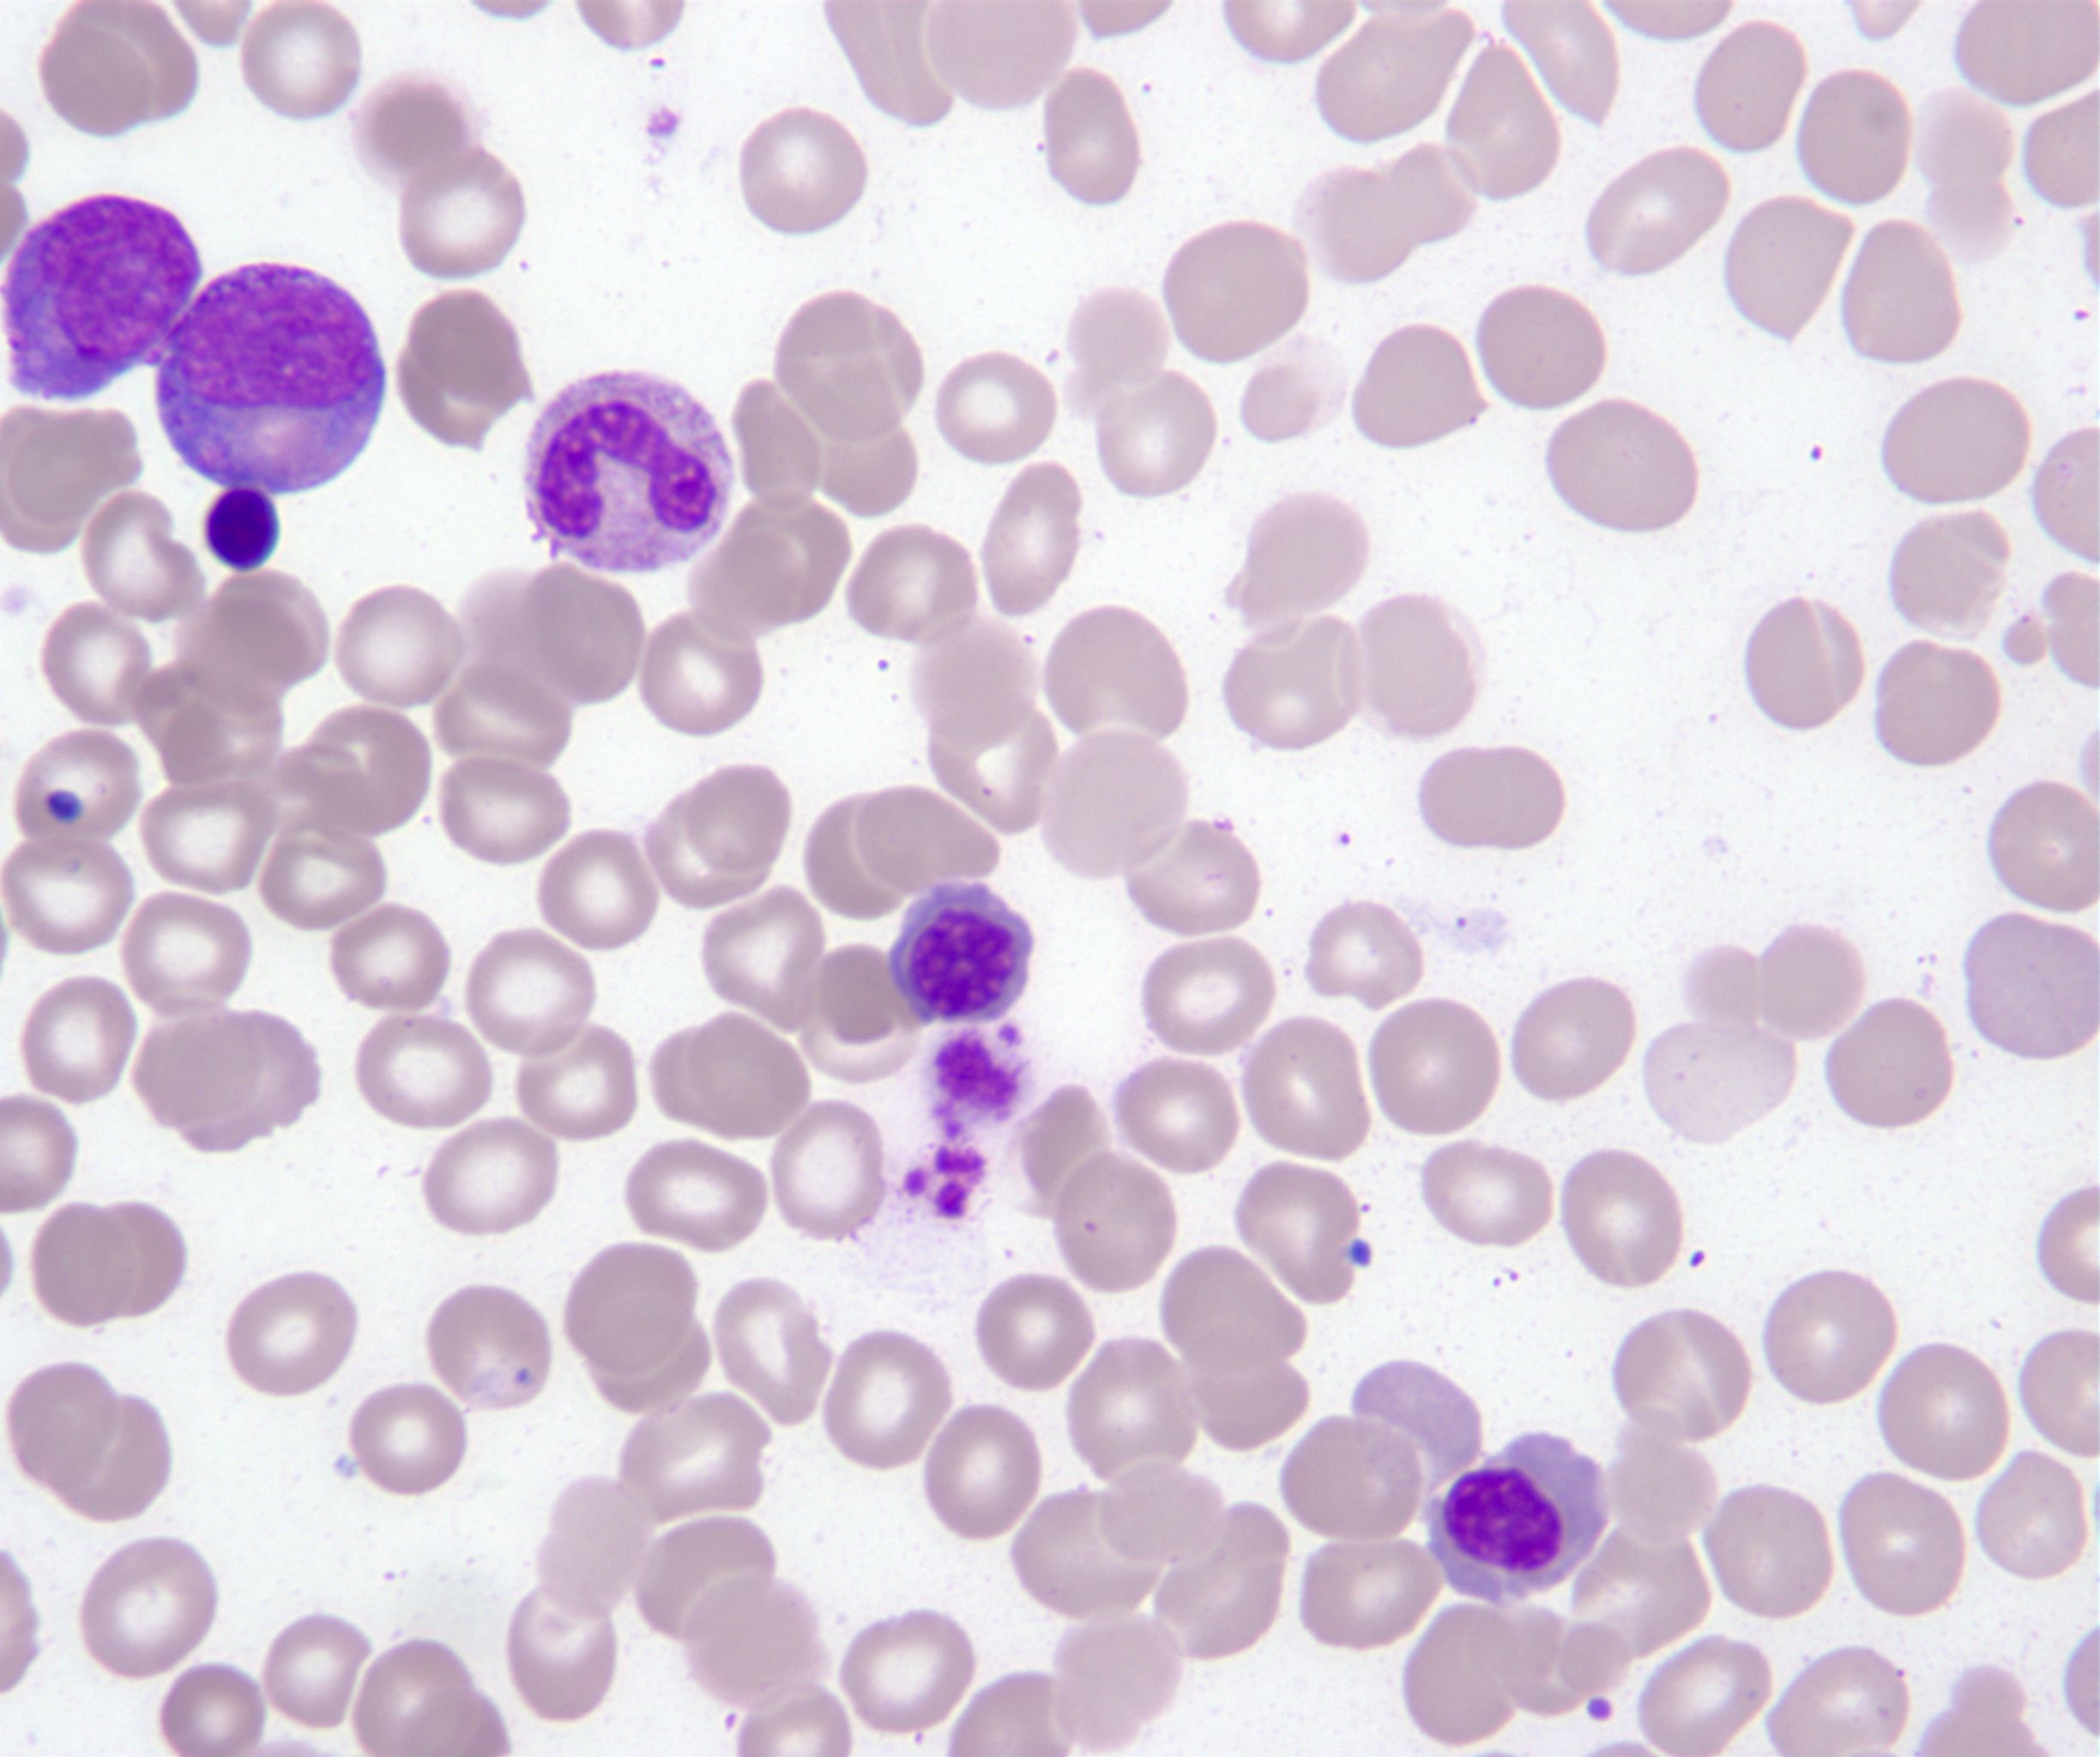24: (1428, 1432, 1606, 1609), (893, 885, 1033, 1022)
3: (157, 265, 382, 497), (0, 194, 197, 401)
5: (527, 375, 731, 572)
x: (208, 489, 279, 567)
